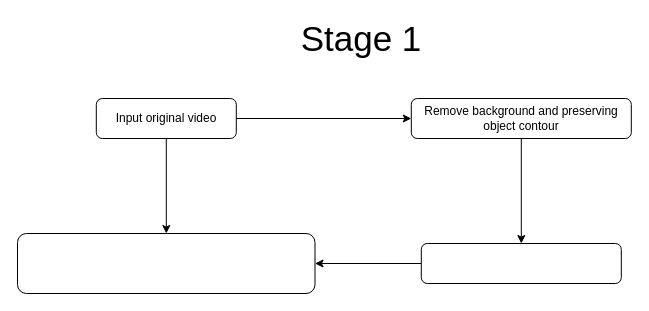
This 649x311 diagram has some shape labels left out. The shapes that lost their labels are listed below. From the top down, each one's centre as x and y in pixels, then its label:
the point at 165,263: Output a video compare original and processed video
the point at 520,263: Output a video without background as video 2
